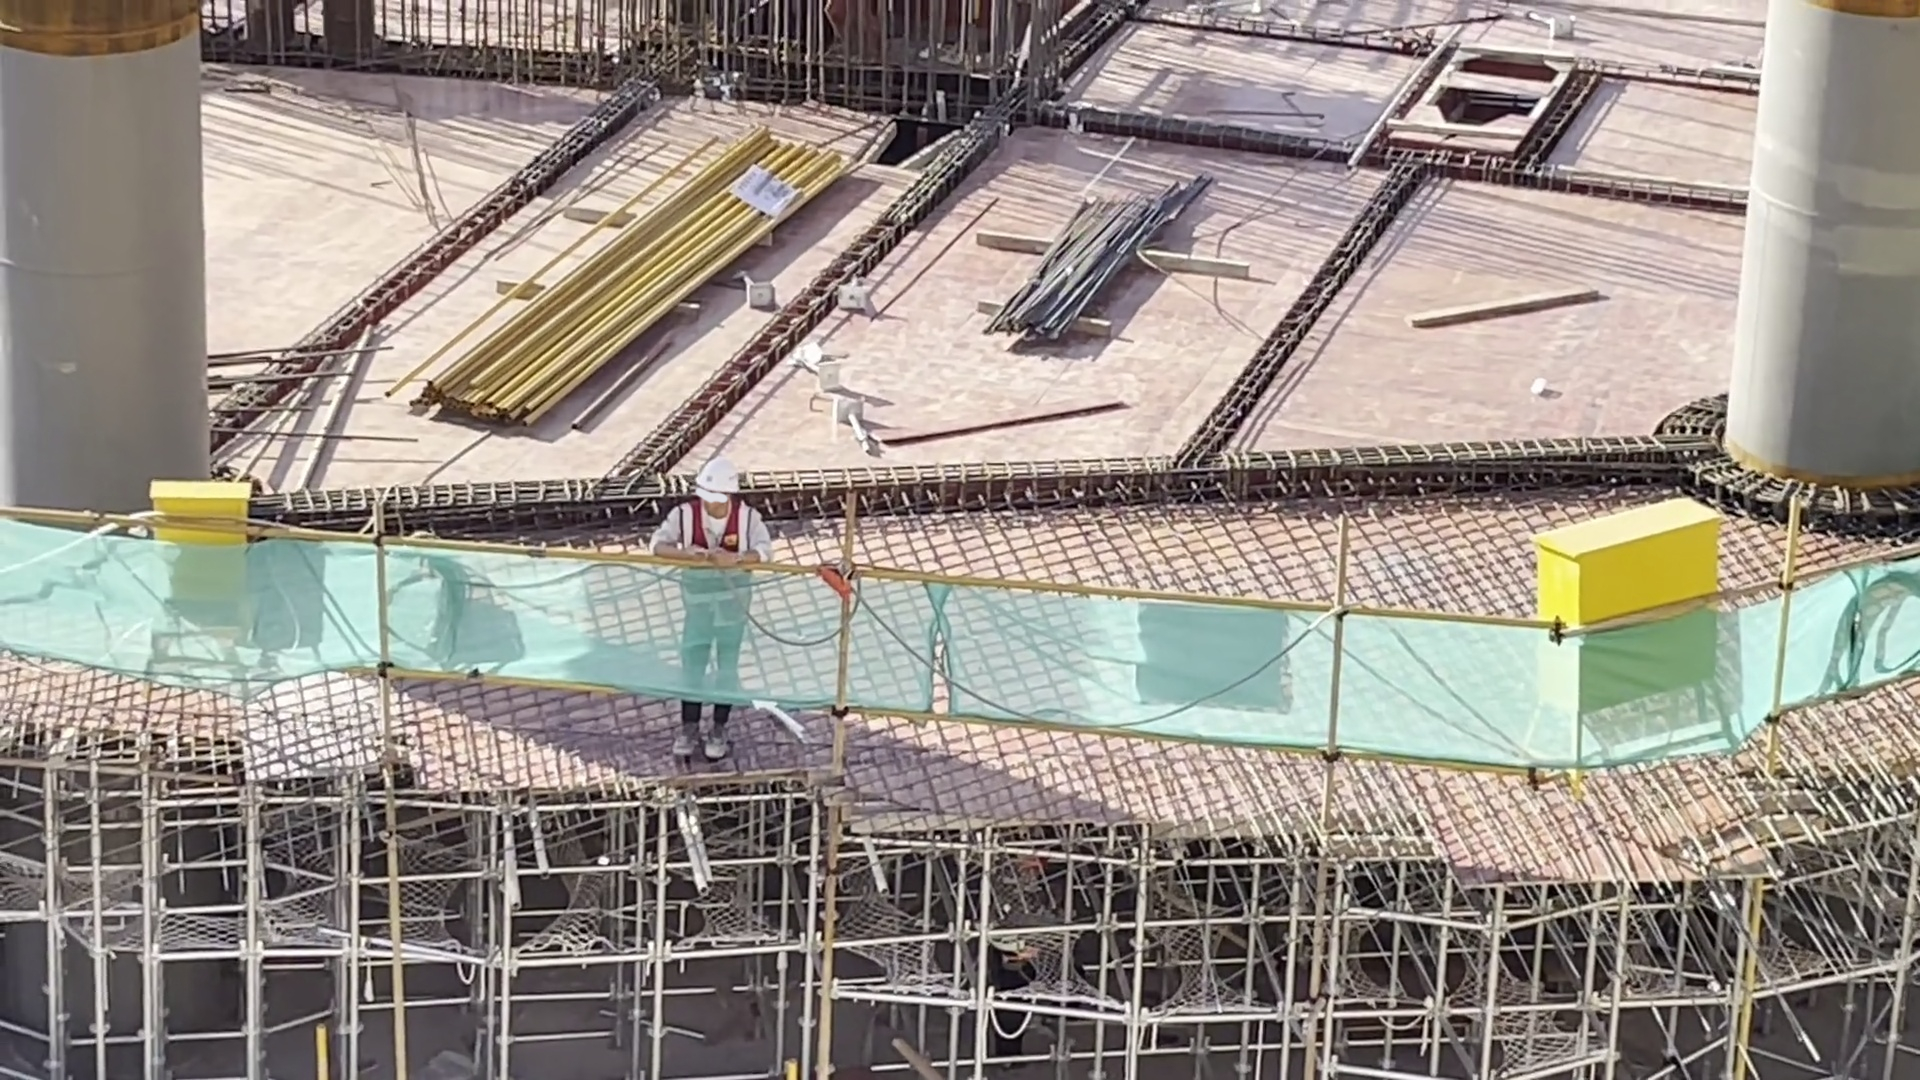ebox: (1558, 501, 1714, 726), (151, 471, 251, 601)
helmet: (694, 471, 743, 512), (1021, 844, 1048, 869)
person: (678, 471, 753, 728), (974, 843, 1038, 1058)
rebar: (995, 190, 1168, 331)
vest: (983, 884, 1043, 999), (684, 502, 736, 629)
